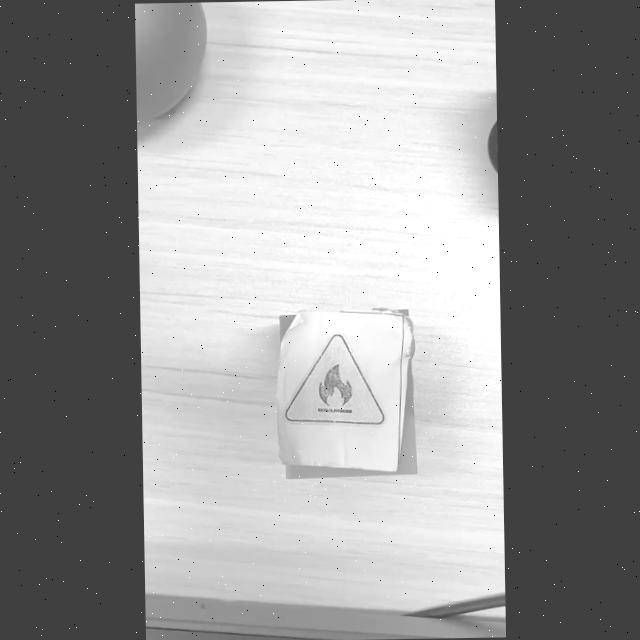Fire: (285, 334, 384, 425)
